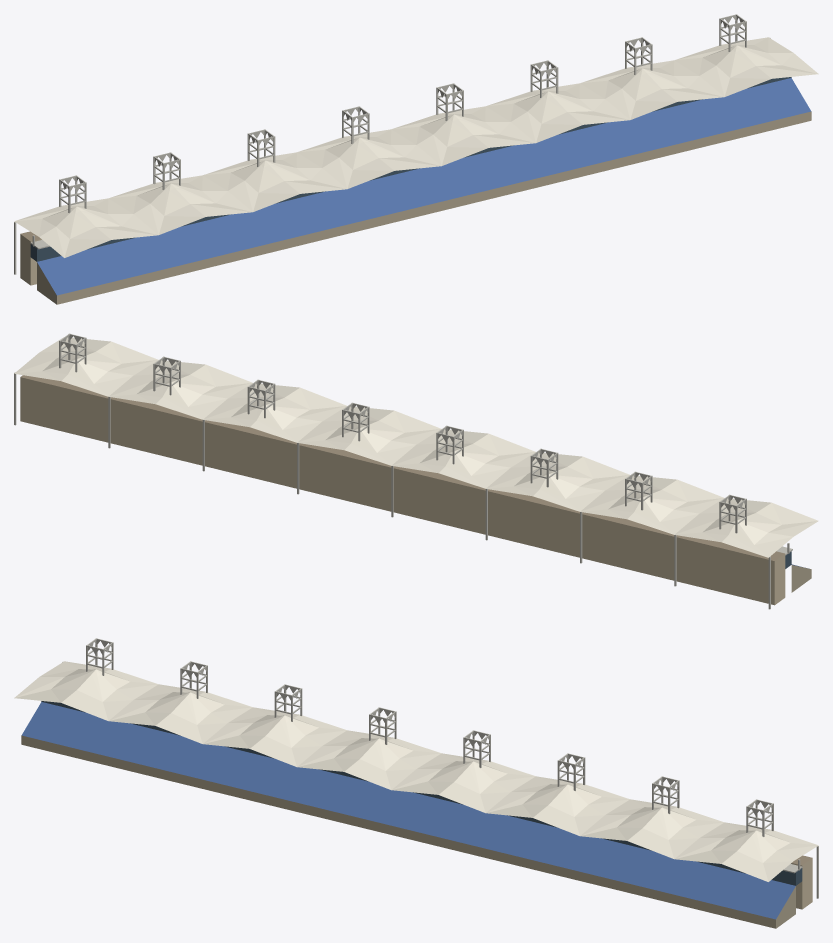
The model's file is main_grandstand.glb.
The picture shows the model from 3 angles, top to bottom: view 1: azimuth 30°, elevation 25°; view 2: azimuth 150°, elevation 25°; view 3: azimuth 330°, elevation 25°; orthographic projection.
Visible parts, largest first — view 1: chunk_0_0; view 2: chunk_0_0; view 3: chunk_0_0.
Part boxes in pixels (bbox=[...]): chunk_0_0: bbox=[14, 14, 818, 304]; chunk_0_0: bbox=[14, 333, 818, 609]; chunk_0_0: bbox=[14, 638, 818, 928].
Size of the model in its own units: 350 by 39.5 by 40.4.
